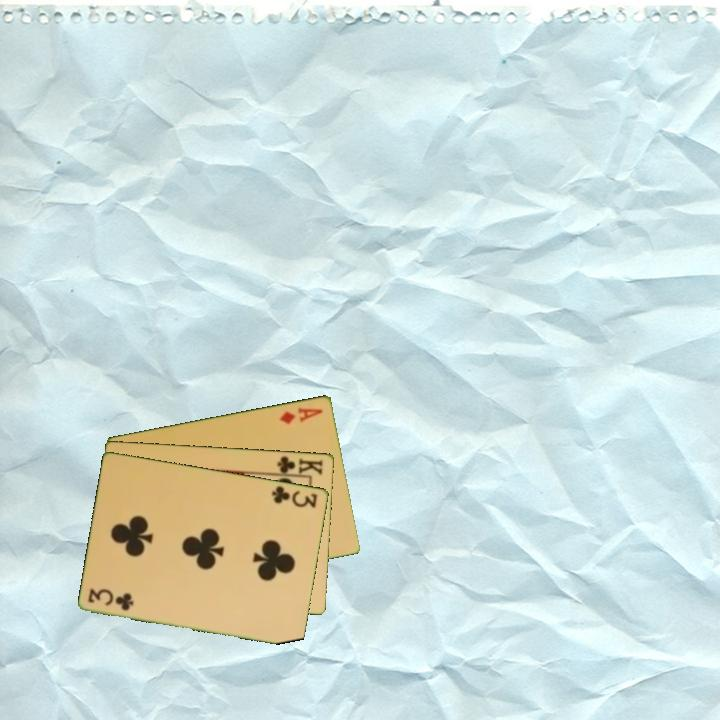3c: (268, 482, 320, 511), (85, 585, 137, 613)
Ad: (276, 403, 326, 427)
Kc: (270, 452, 325, 478)
